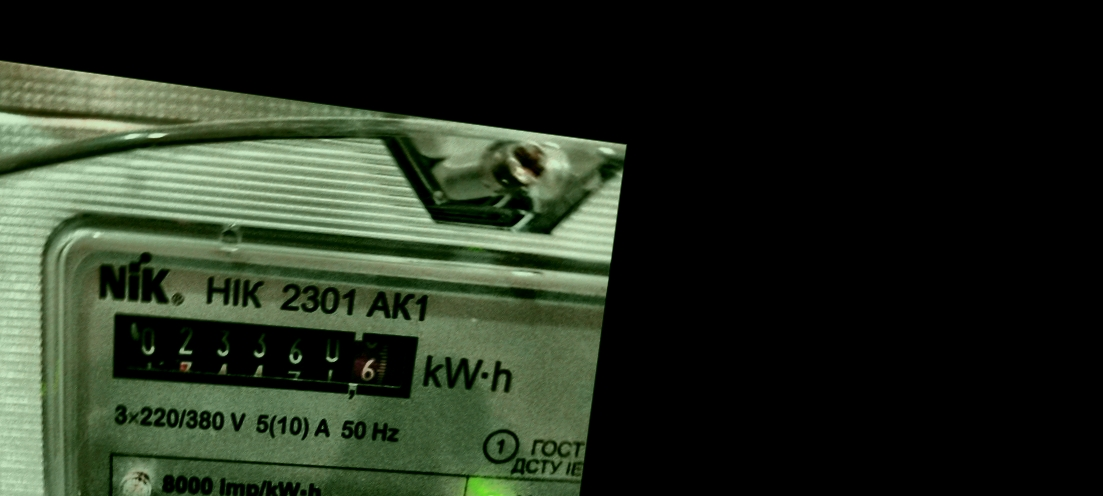0: (132, 323, 158, 359), (315, 333, 341, 367)
2: (171, 323, 195, 358)
3: (245, 326, 269, 361), (207, 327, 230, 360)
6: (280, 332, 305, 368), (353, 351, 378, 387)
screen: (86, 286, 434, 425)
